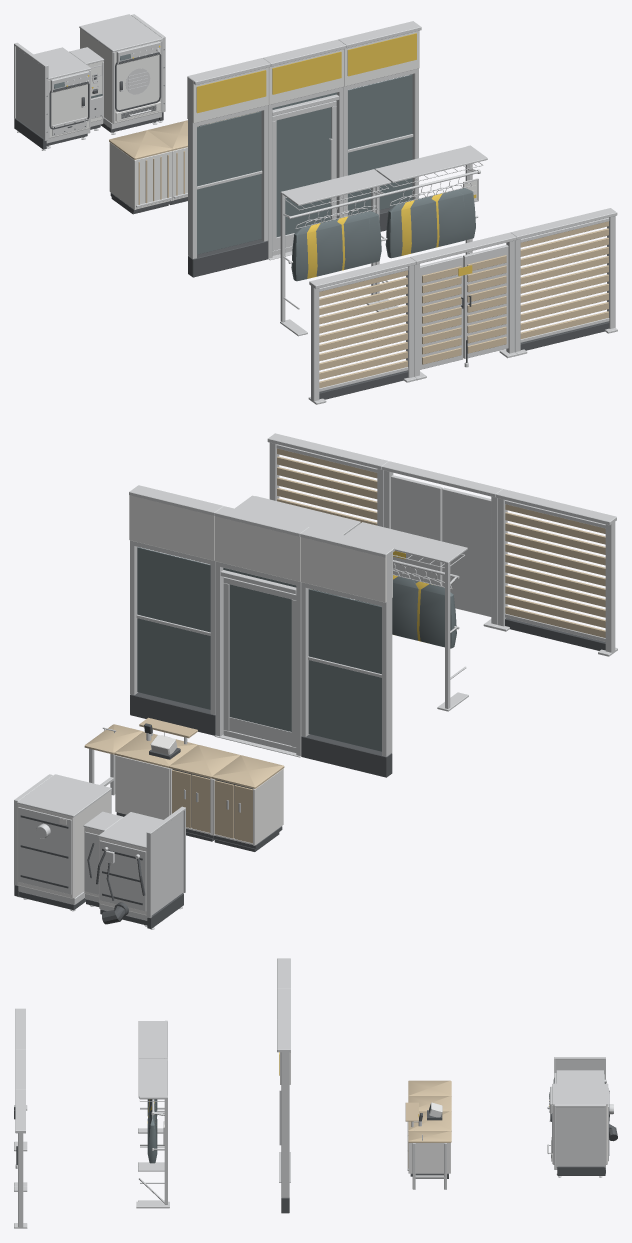
The model's file is laundrette-and-cleaning-connector-cases-0f89a23c__25654.glb.
The picture shows the model from 3 angles, top to bottom: view 1: azimuth 30°, elevation 25°; view 2: azimuth 150°, elevation 25°; view 3: azimuth 270°, elevation 25°; orthographic projection. The views are drawn at different scales.
Visible parts, largest first — view 1: 008-shopfront-module-glazed/2, 014-bin-store-enclosure/1, 016-bin-store-enclosure/1, 010-shopfront-module-glazed/2, 009-shopfront-door-module/door/glass, 012-hanger-rail-run/1, 011-hanger-rail-run/1, 008-shopfront-module-glazed/1, 011-hanger-rail-run/0, 014-bin-store-enclosure/0, 009-shopfront-door-module/0, 016-bin-store-enclosure/0 (+30 smaller); view 2: 008-shopfront-module-glazed/2, 010-shopfront-module-glazed/2, 014-bin-store-enclosure/1, 009-shopfront-door-module/door/glass, 003-tumble-dryer-single/0, 015-bin-store-gate/gate-left/metal, 008-shopfront-module-glazed/1, 009-shopfront-door-module/0, 014-bin-store-enclosure/0, 016-bin-store-enclosure/1, 001-washer-commercial-small/0, 008-shopfront-module-glazed/3 (+28 smaller); view 3: 004-machine-bank-end-panel/0, 010-shopfront-module-glazed/1, 012-hanger-rail-run/0, 003-tumble-dryer-single/0, 011-hanger-rail-run/0, 007-drop-off-counter/1, 016-bin-store-enclosure/0, 013-hanger-rail-end-post/0, 007-drop-off-counter/2, 000-machine-bank-end-panel/0, 001-washer-commercial-small/0, 005-counter-module-600/7 (+9 smaller).
Part boxes in pixels (<box>): 008-shopfront-module-glazed/2: <box>197,111,261,254</box>; 014-bin-store-enclosure/1: <box>319,270,407,388</box>; 016-bin-store-enclosure/1: <box>520,221,608,338</box>; 010-shopfront-module-glazed/2: <box>348,74,412,215</box>; 009-shopfront-door-module/door/glass: <box>276,107,331,236</box>; 012-hanger-rail-run/1: <box>385,188,475,258</box>; 011-hanger-rail-run/1: <box>291,211,381,281</box>; 008-shopfront-module-glazed/1: <box>187,58,270,258</box>; 011-hanger-rail-run/0: <box>280,169,391,336</box>; 014-bin-store-enclosure/0: <box>308,257,416,404</box>; 009-shopfront-door-module/0: <box>263,39,346,260</box>; 016-bin-store-enclosure/0: <box>510,208,617,355</box>; 008-shopfront-module-glazed/2: <box>308,589,381,751</box>; 010-shopfront-module-glazed/2: <box>137,547,210,709</box>; 014-bin-store-enclosure/1: <box>505,504,605,637</box>; 009-shopfront-door-module/door/glass: <box>229,584,291,731</box>; 003-tumble-dryer-single/0: <box>17,774,111,911</box>; 015-bin-store-gate/gate-left/metal: <box>442,487,491,616</box>; 008-shopfront-module-glazed/1: <box>300,527,394,756</box>; 009-shopfront-door-module/0: <box>214,506,308,757</box>; 014-bin-store-enclosure/0: <box>495,489,617,656</box>; 016-bin-store-enclosure/1: <box>277,448,377,525</box>; 001-washer-commercial-small/0: <box>98,812,163,926</box>; 008-shopfront-module-glazed/3: <box>300,537,392,602</box>; 004-machine-bank-end-panel/0: <box>554,1104,605,1177</box>; 010-shopfront-module-glazed/1: <box>277,1019,290,1197</box>; 012-hanger-rail-run/0: <box>138,1059,167,1201</box>; 003-tumble-dryer-single/0: <box>547,1083,613,1174</box>; 011-hanger-rail-run/0: <box>138,1020,167,1166</box>; 007-drop-off-counter/1: <box>408,1102,450,1173</box>; 016-bin-store-enclosure/0: <box>14,1090,27,1228</box>; 013-hanger-rail-end-post/0: <box>136,1096,169,1208</box>; 007-drop-off-counter/2: <box>405,1102,451,1168</box>; 000-machine-bank-end-panel/0: <box>554,1057,605,1079</box>; 001-washer-commercial-small/0: <box>553,1070,606,1083</box>; 005-counter-module-600/7: <box>408,1080,451,1095</box>.
Size of the model in its own units: 4.8 by 3 by 10.04.
